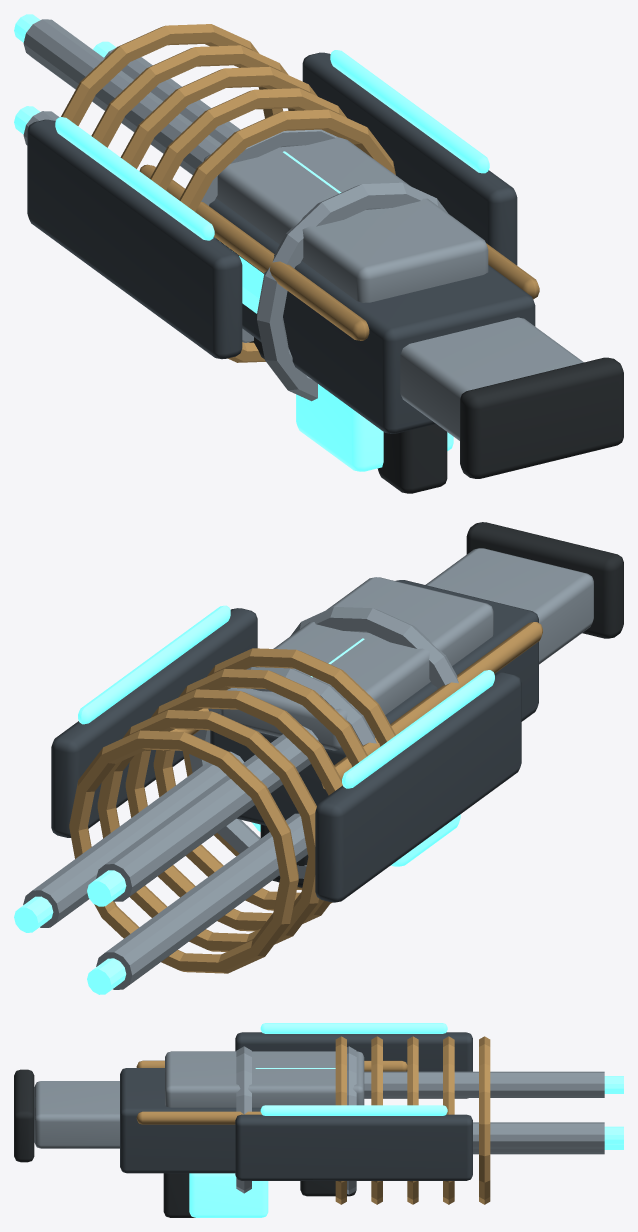
File: tempest.glb
3 views of the same model, one above another, from view 1: azimuth 30°, elevation 25°; view 2: azimuth 150°, elevation 25°; view 3: azimuth 270°, elevation 25° (orthographic). The views are drawn at different scales.
Parts seen in each view (by area): view 1: TEMPEST / arc fin, TEMPEST / upper armor, TEMPEST / receiver, TEMPEST / butt pad, TEMPEST / arc fin.001, TEMPEST / shoulder stock, TEMPEST / reactor brace, TEMPEST / barrel 2, TEMPEST / induction coil, TEMPEST / side rail, TEMPEST / power magazine, TEMPEST / induction coil.004 (+10 smaller); view 2: TEMPEST / arc fin, TEMPEST / upper armor, TEMPEST / induction coil.004, TEMPEST / arc fin.001, TEMPEST / induction coil.003, TEMPEST / barrel 3, TEMPEST / shoulder stock, TEMPEST / barrel 2, TEMPEST / induction coil.002, TEMPEST / receiver, TEMPEST / butt pad, TEMPEST / barrel 1 (+11 smaller); view 3: TEMPEST / arc fin.001, TEMPEST / upper armor, TEMPEST / receiver, TEMPEST / shoulder stock, TEMPEST / barrel 2, TEMPEST / arc fin, TEMPEST / barrel 1, TEMPEST / power magazine, TEMPEST / arc conductor, TEMPEST / arc conductor.001, TEMPEST / induction coil.004, TEMPEST / butt pad (+13 smaller).
Part boxes in pixels (x1,y1,x2,y2): TEMPEST / arc fin: (27,119,242,359); TEMPEST / upper armor: (203,137,488,302); TEMPEST / receiver: (209,198,535,433); TEMPEST / butt pad: (460,357,623,478); TEMPEST / arc fin.001: (302,52,517,265); TEMPEST / shoulder stock: (400,317,583,440); TEMPEST / reactor brace: (257,182,447,401); TEMPEST / barrel 2: (23,19,221,174); TEMPEST / induction coil: (179,109,395,362); TEMPEST / side rail: (139,164,369,340); TEMPEST / power magazine: (296,384,453,471); TEMPEST / induction coil.004: (61,24,282,125); TEMPEST / arc fin: (315,672,521,902); TEMPEST / upper armor: (219,577,493,750); TEMPEST / induction coil.004: (69,730,298,973); TEMPEST / arc fin.001: (51,608,257,837); TEMPEST / induction coil.003: (97,710,318,951); TEMPEST / barrel 3: (96,813,307,989); TEMPEST / shoulder stock: (425,548,593,664); TEMPEST / barrel 2: (96,726,318,901); TEMPEST / induction coil.002: (125,689,342,931); TEMPEST / receiver: (210,580,538,825); TEMPEST / butt pad: (466,522,623,638); TEMPEST / barrel 1: (23,751,244,927); TEMPEST / arc fin.001: (235,1114,472,1180); TEMPEST / upper armor: (165,1051,364,1107); TEMPEST / receiver: (120,1068,261,1173); TEMPEST / shoulder stock: (34,1081,119,1148); TEMPEST / barrel 2: (364,1071,604,1097); TEMPEST / arc fin: (235,1032,472,1098); TEMPEST / barrel 1: (473,1122,604,1148); TEMPEST / power magazine: (189,1173,268,1217); TEMPEST / arc conductor: (260,1023,447,1033); TEMPEST / arc conductor.001: (260,1105,447,1115); TEMPEST / induction coil.004: (479,1036,490,1204); TEMPEST / butt pad: (14,1069,34,1162).
Bounding box in the file's own units: 0.84 × 0.73 × 2.39.
